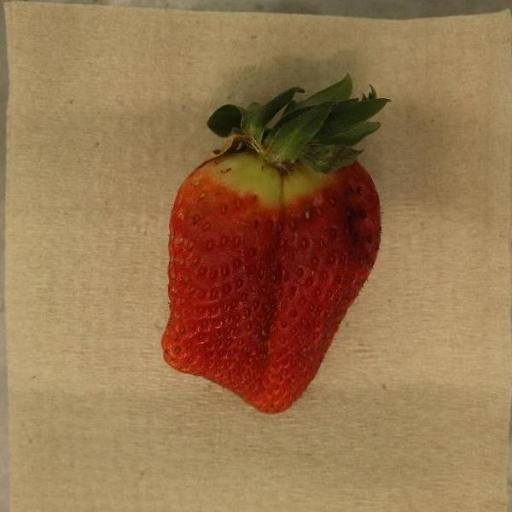Strawberry: (161, 75, 389, 416)
